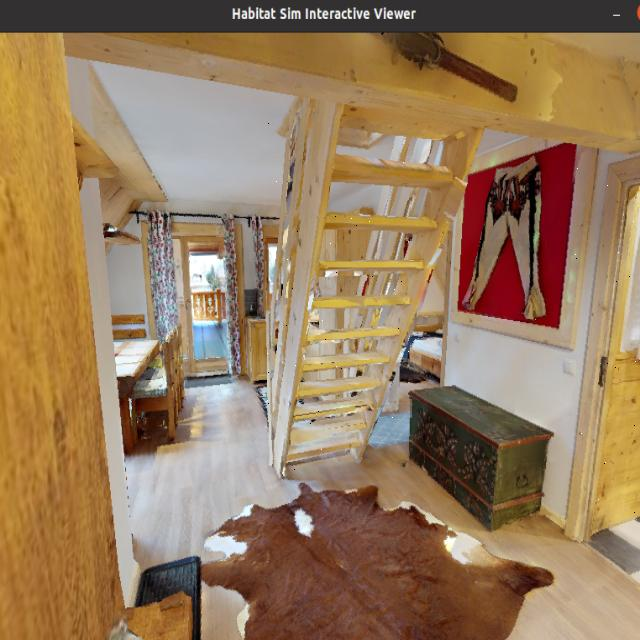door-frame: (573, 150, 640, 562)
stairs: (268, 114, 412, 474)
